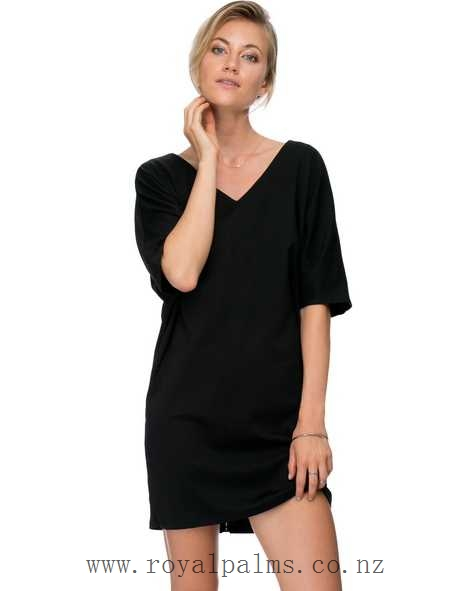S_dress: (126, 145, 350, 510)
